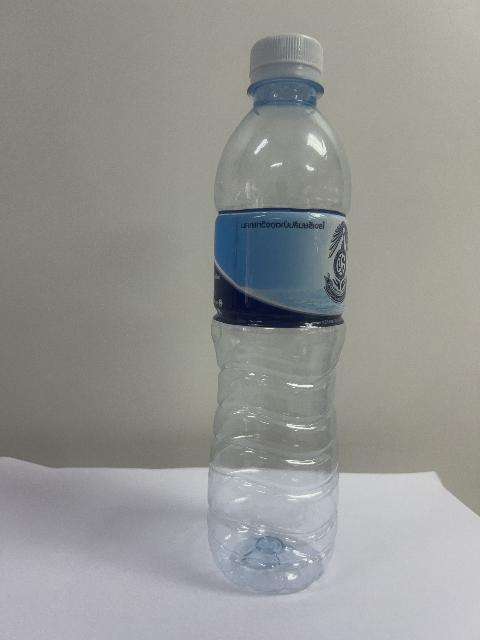bottle: (208, 34, 349, 592)
